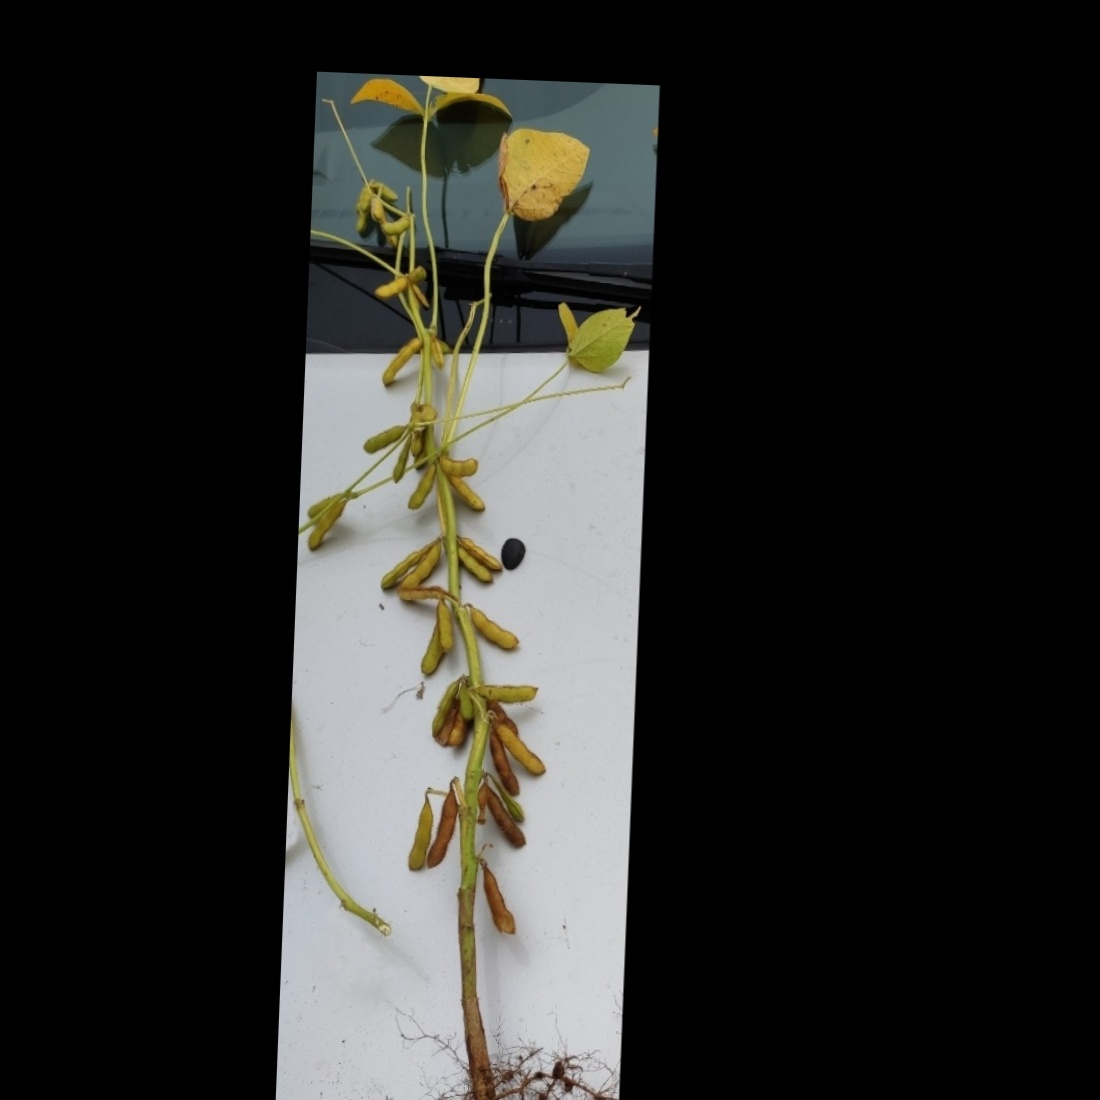pod: (471, 855, 521, 942), (421, 777, 463, 875), (472, 777, 529, 850), (373, 537, 439, 593), (402, 783, 437, 878), (495, 718, 549, 778), (306, 494, 355, 555), (398, 535, 443, 595), (485, 731, 524, 801), (471, 605, 523, 655), (381, 331, 424, 387), (451, 532, 509, 572), (472, 676, 545, 707), (449, 544, 497, 587), (401, 457, 437, 513), (449, 468, 489, 517), (430, 589, 459, 654), (359, 420, 407, 457), (437, 450, 483, 480), (370, 275, 411, 303), (378, 215, 411, 236)
soy: (282, 98, 643, 1100)
